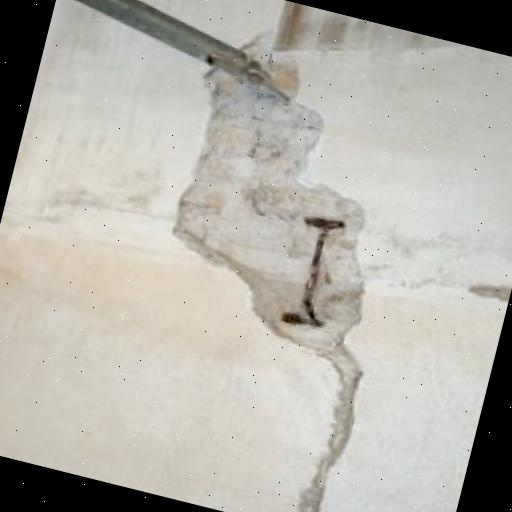spalling: (173, 34, 374, 512)
